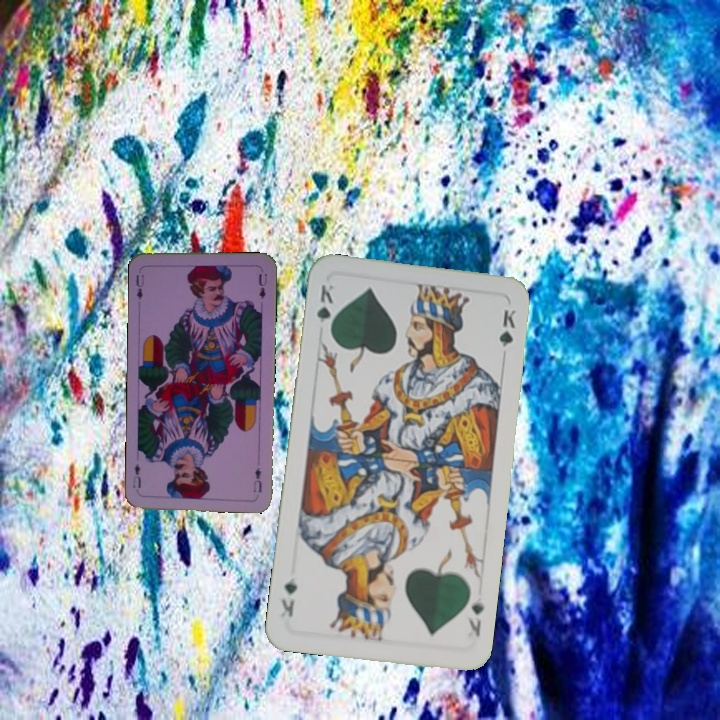EU: (132, 271, 147, 302), (249, 464, 264, 495)
GK: (312, 280, 337, 338), (463, 598, 487, 639)
